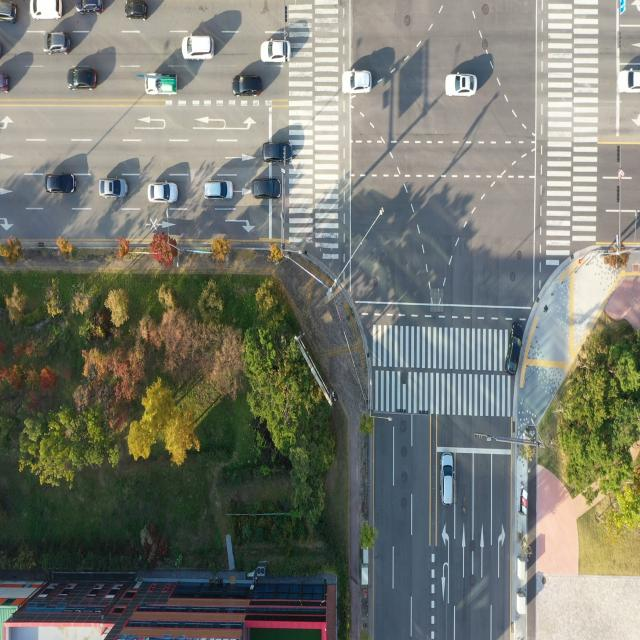car: (182, 31, 218, 62), (507, 320, 524, 376), (447, 72, 480, 100), (614, 63, 640, 95), (441, 453, 456, 508), (263, 34, 292, 62), (69, 66, 99, 93), (342, 68, 374, 93), (46, 173, 76, 196), (46, 31, 72, 56), (149, 182, 178, 204), (263, 141, 292, 163), (234, 77, 262, 99), (28, 0, 64, 17), (101, 181, 130, 202), (253, 179, 281, 200), (204, 179, 232, 200), (125, 0, 151, 20), (0, 0, 18, 25), (77, 0, 104, 14)
small_truck: (142, 70, 180, 99)
